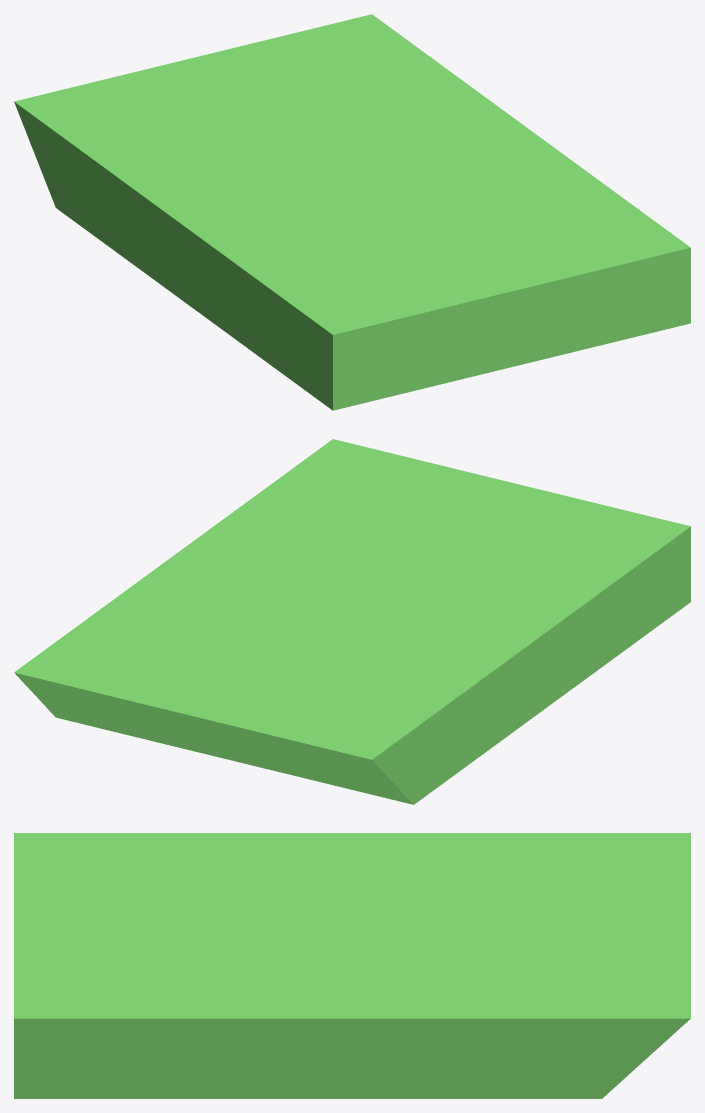
File: sm_Collider27.fbx
3 renders of one model, top to bottom at view 1: azimuth 30°, elevation 25°; view 2: azimuth 150°, elevation 25°; view 3: azimuth 270°, elevation 25°, orthographic. The views are drawn at different scales.
Visible parts, largest first — view 1: sm_Collider.035; view 2: sm_Collider.035; view 3: sm_Collider.035.
Part boxes in pixels (<box>): sm_Collider.035: <box>14,14,690,410</box>; sm_Collider.035: <box>14,439,690,804</box>; sm_Collider.035: <box>14,833,690,1098</box>.
Bounding box in the file's own units: 500 × 101 × 772.
